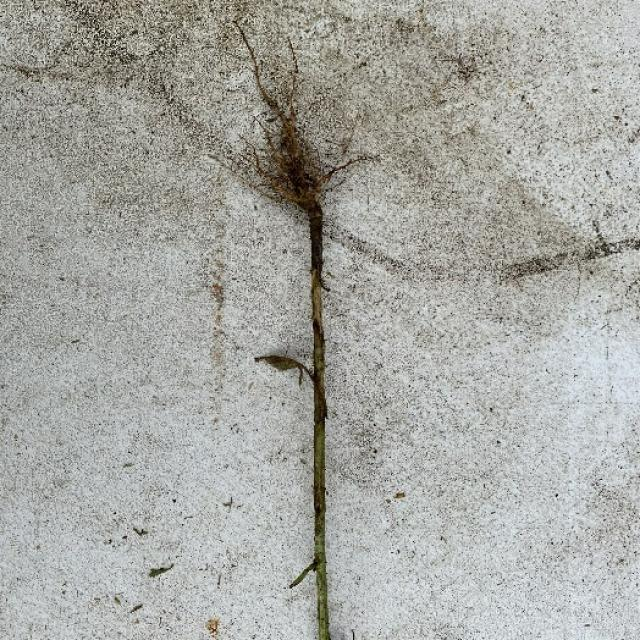organic: (220, 20, 376, 403)
